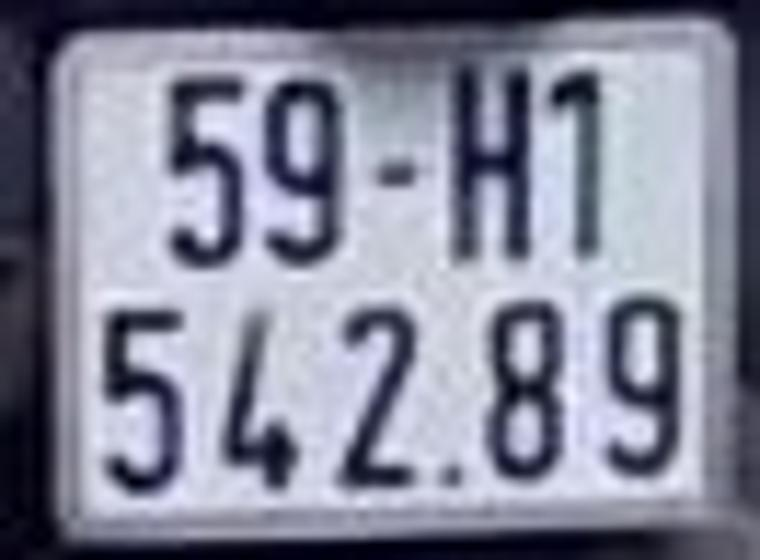-: (378, 155, 418, 192)
.: (438, 456, 466, 495)
1: (548, 65, 606, 262)
2: (329, 300, 417, 486)
4: (220, 315, 302, 495)
5: (162, 68, 247, 272), (103, 302, 189, 493)
8: (487, 297, 566, 484)
9: (259, 74, 348, 268), (597, 292, 685, 475)
H: (449, 60, 540, 272)
